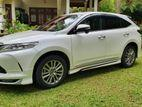car: (0, 12, 142, 87)
